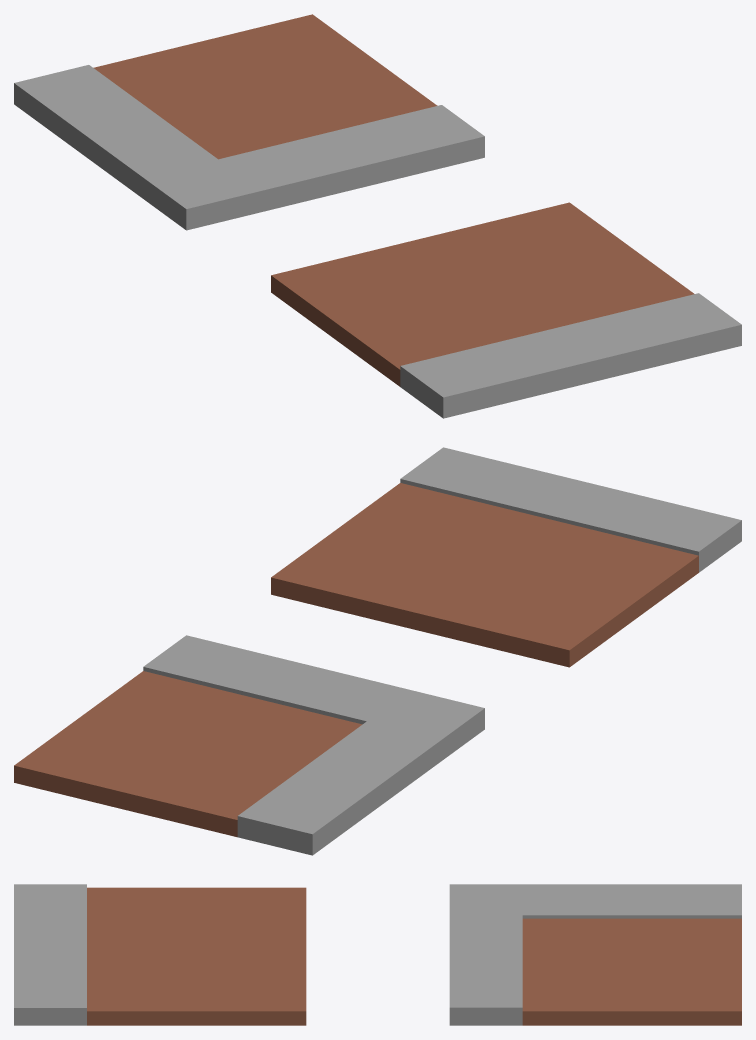
Rendered from human tile.fbx.
3 views of the same model, one above another, from view 1: azimuth 30°, elevation 25°; view 2: azimuth 150°, elevation 25°; view 3: azimuth 270°, elevation 25° (orthographic). The views are drawn at different scales.
Parts seen in each view (by area): view 1: Cube, Cube.001; view 2: Cube, Cube.001; view 3: Cube, Cube.001.
Boxes of the visible parts, <box> form: Cube: <box>14,14,484,230</box>; Cube.001: <box>271,202,741,418</box>; Cube: <box>14,635,484,855</box>; Cube.001: <box>271,447,741,667</box>; Cube: <box>449,884,741,1025</box>; Cube.001: <box>14,884,306,1025</box>.
Size of the model in its own units: 200 by 13.66 by 498.
